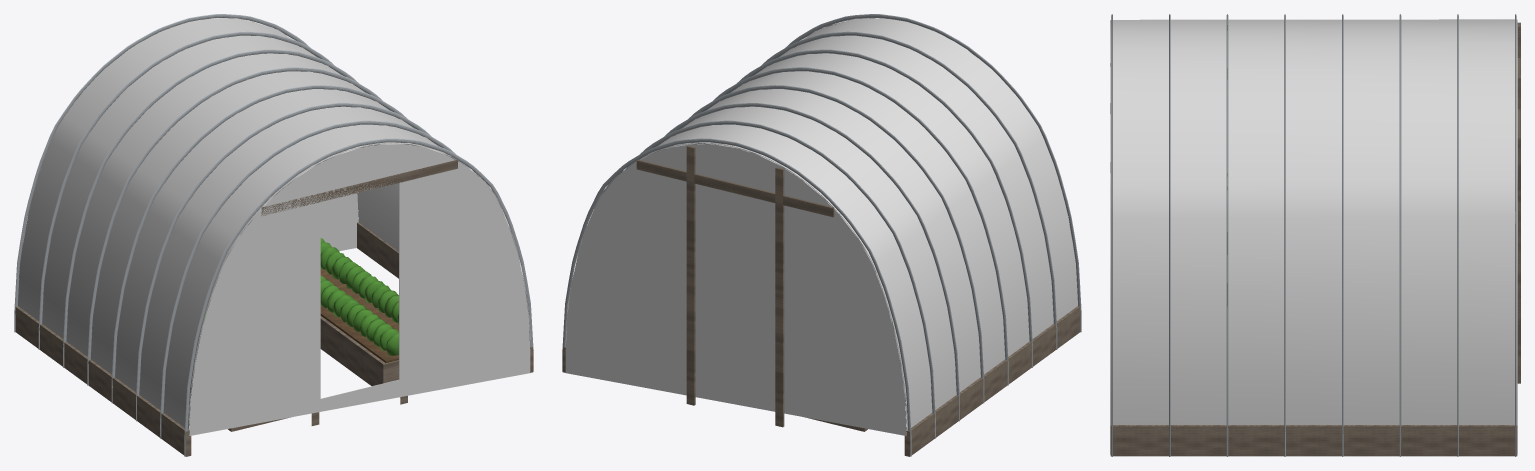
The model's file is pack-greenhouse.glb.
The picture shows the model from 3 angles, left to right: view 1: azimuth 30°, elevation 25°; view 2: azimuth 150°, elevation 25°; view 3: azimuth 270°, elevation 25°; orthographic projection. The views are drawn at different scales.
Parts seen in each view (by area): view 1: pack-greenhouse-Polytunnel; view 2: pack-greenhouse-Polytunnel; view 3: pack-greenhouse-Polytunnel.
Boxes of the visible parts, box(x1,y1,x2,y2) form: pack-greenhouse-Polytunnel: box(14, 14, 533, 456); pack-greenhouse-Polytunnel: box(562, 14, 1081, 456); pack-greenhouse-Polytunnel: box(1110, 14, 1520, 456).
Size of the model in its own units: 4.62 by 3.44 by 3.97.
Materials: 4 (2 with a texture image).
